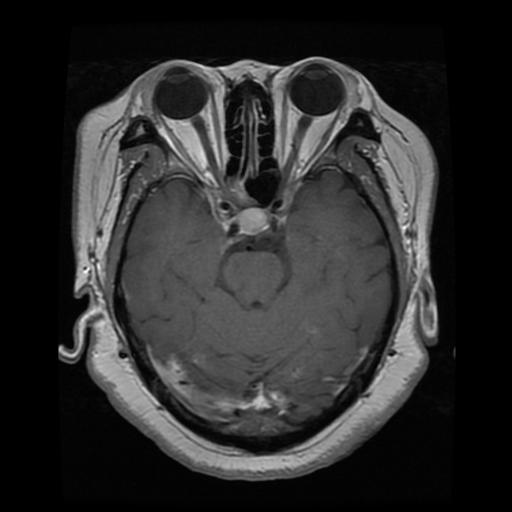Pituirity_tumour: (236, 209, 267, 232)
